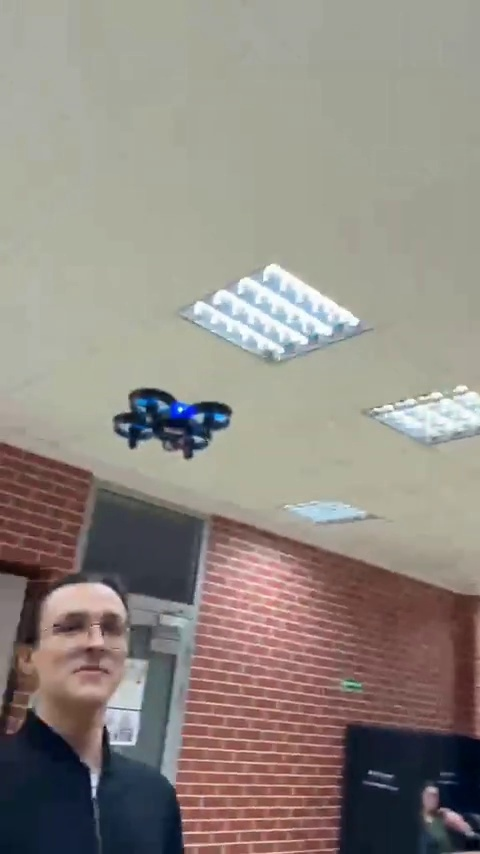drone: (110, 390, 229, 453)
no vest: (8, 577, 189, 850)
